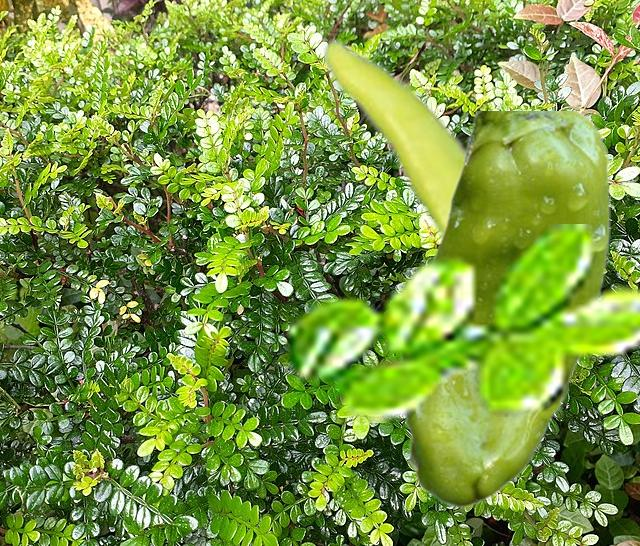green_chili: (322, 36, 567, 405), (402, 111, 609, 507)
